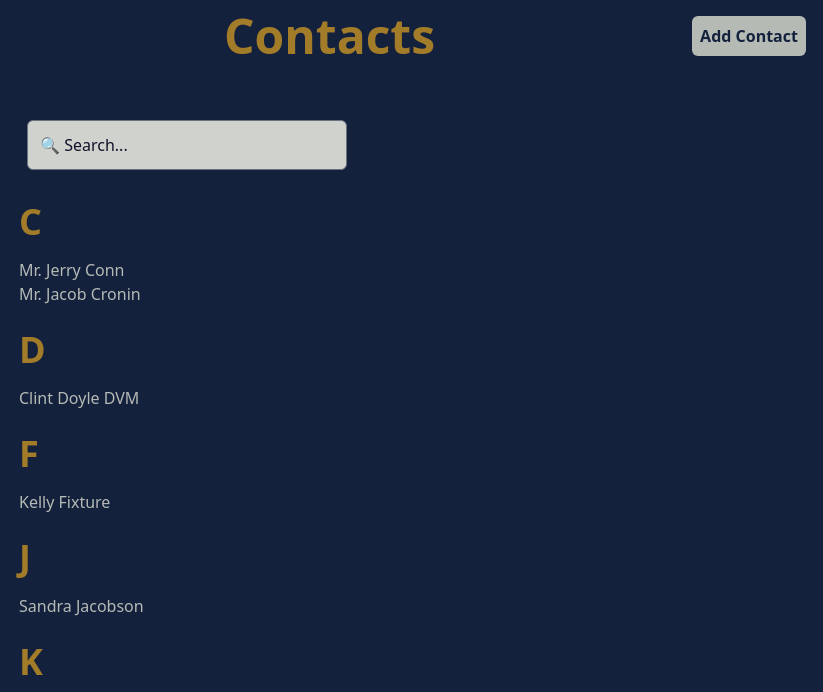
searches for a contact
# type the search term into the search input:
Type "Fixture" into the field with placeholder "🔍 Search..." at (187, 145), box [27,120,347,170]
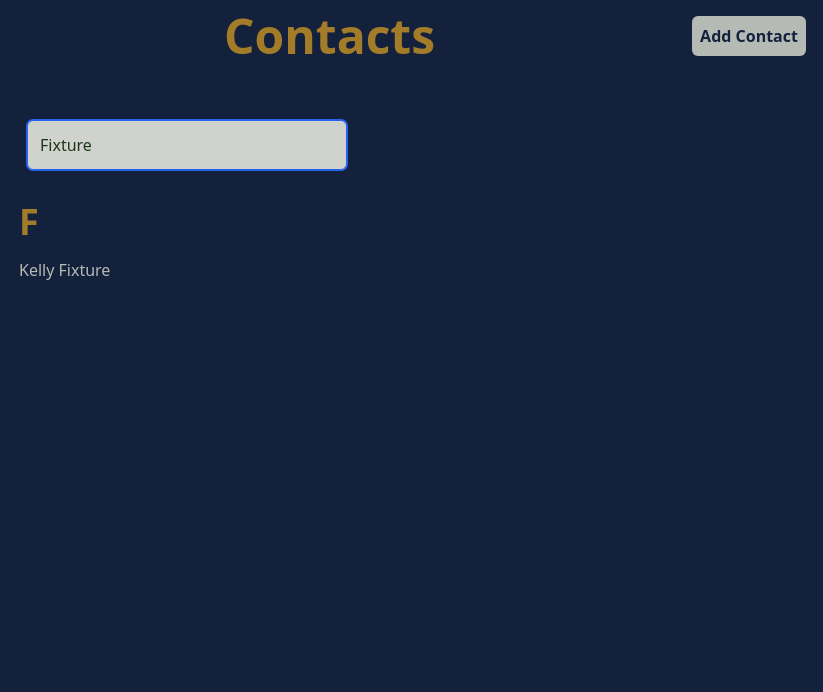
expect the number of list items is 1: met, box [19,259,110,281]
